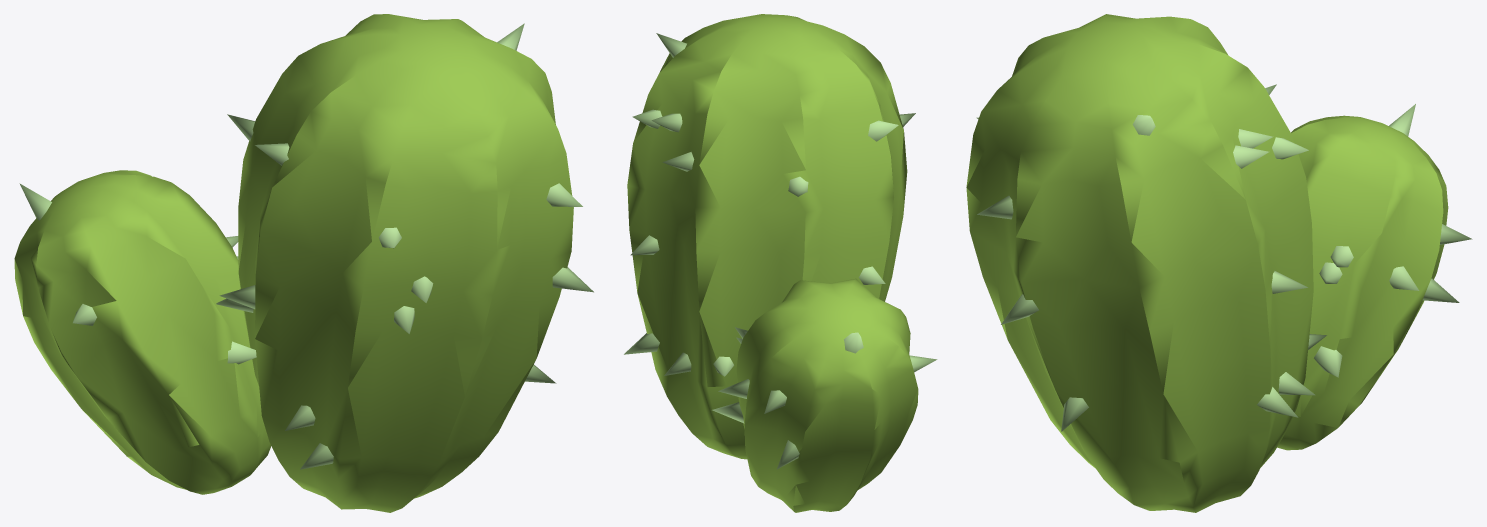
Rendered from Cactus_03_LOD1.fbx.
3 views of the same model, side by side, from view 1: azimuth 30°, elevation 25°; view 2: azimuth 150°, elevation 25°; view 3: azimuth 270°, elevation 25° (orthographic). The views are drawn at different scales.
Parts seen in each view (by area): view 1: Cactus_03_LOD1_Mesh; view 2: Cactus_03_LOD1_Mesh; view 3: Cactus_03_LOD1_Mesh.
Part boxes in pixels (box(x1,y1,x2,y2)): Cactus_03_LOD1_Mesh: box(14, 14, 593, 512); Cactus_03_LOD1_Mesh: box(624, 14, 937, 512); Cactus_03_LOD1_Mesh: box(966, 14, 1472, 512).
Size of the model in its own units: 0.8435 by 0.9248 by 0.8883.
